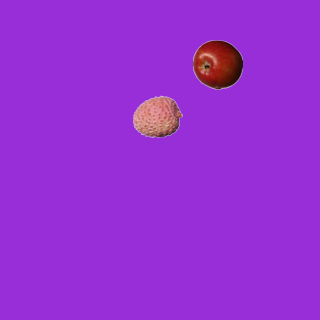Apple Braeburn: (192, 39, 242, 89)
Lychee: (132, 91, 182, 141)
